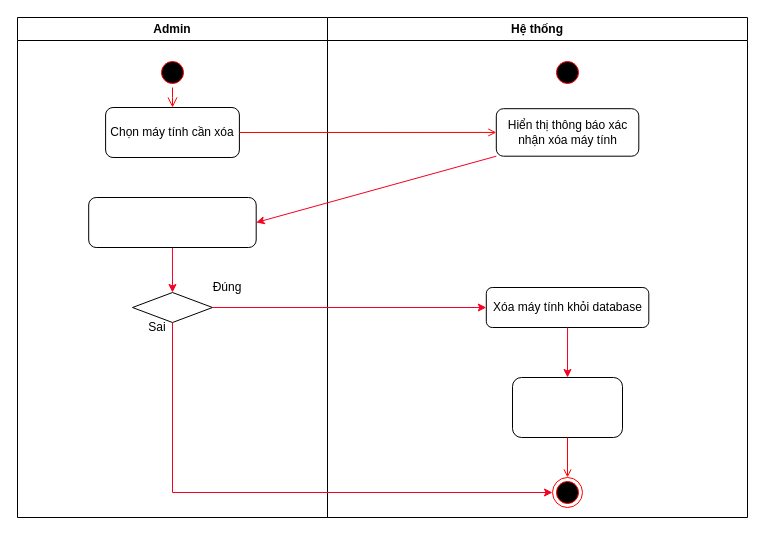
Some shapes in this 765 by 535 pixel diagram are drawn without their labels. The shapes that lost their labels are listed below. From the top down, each one's centre as x and y in pixels, then its label:
At (x=172, y=222): "Xác nhận xóa máy tính".
At (x=567, y=407): "Hiển thị thông báo thành công".
